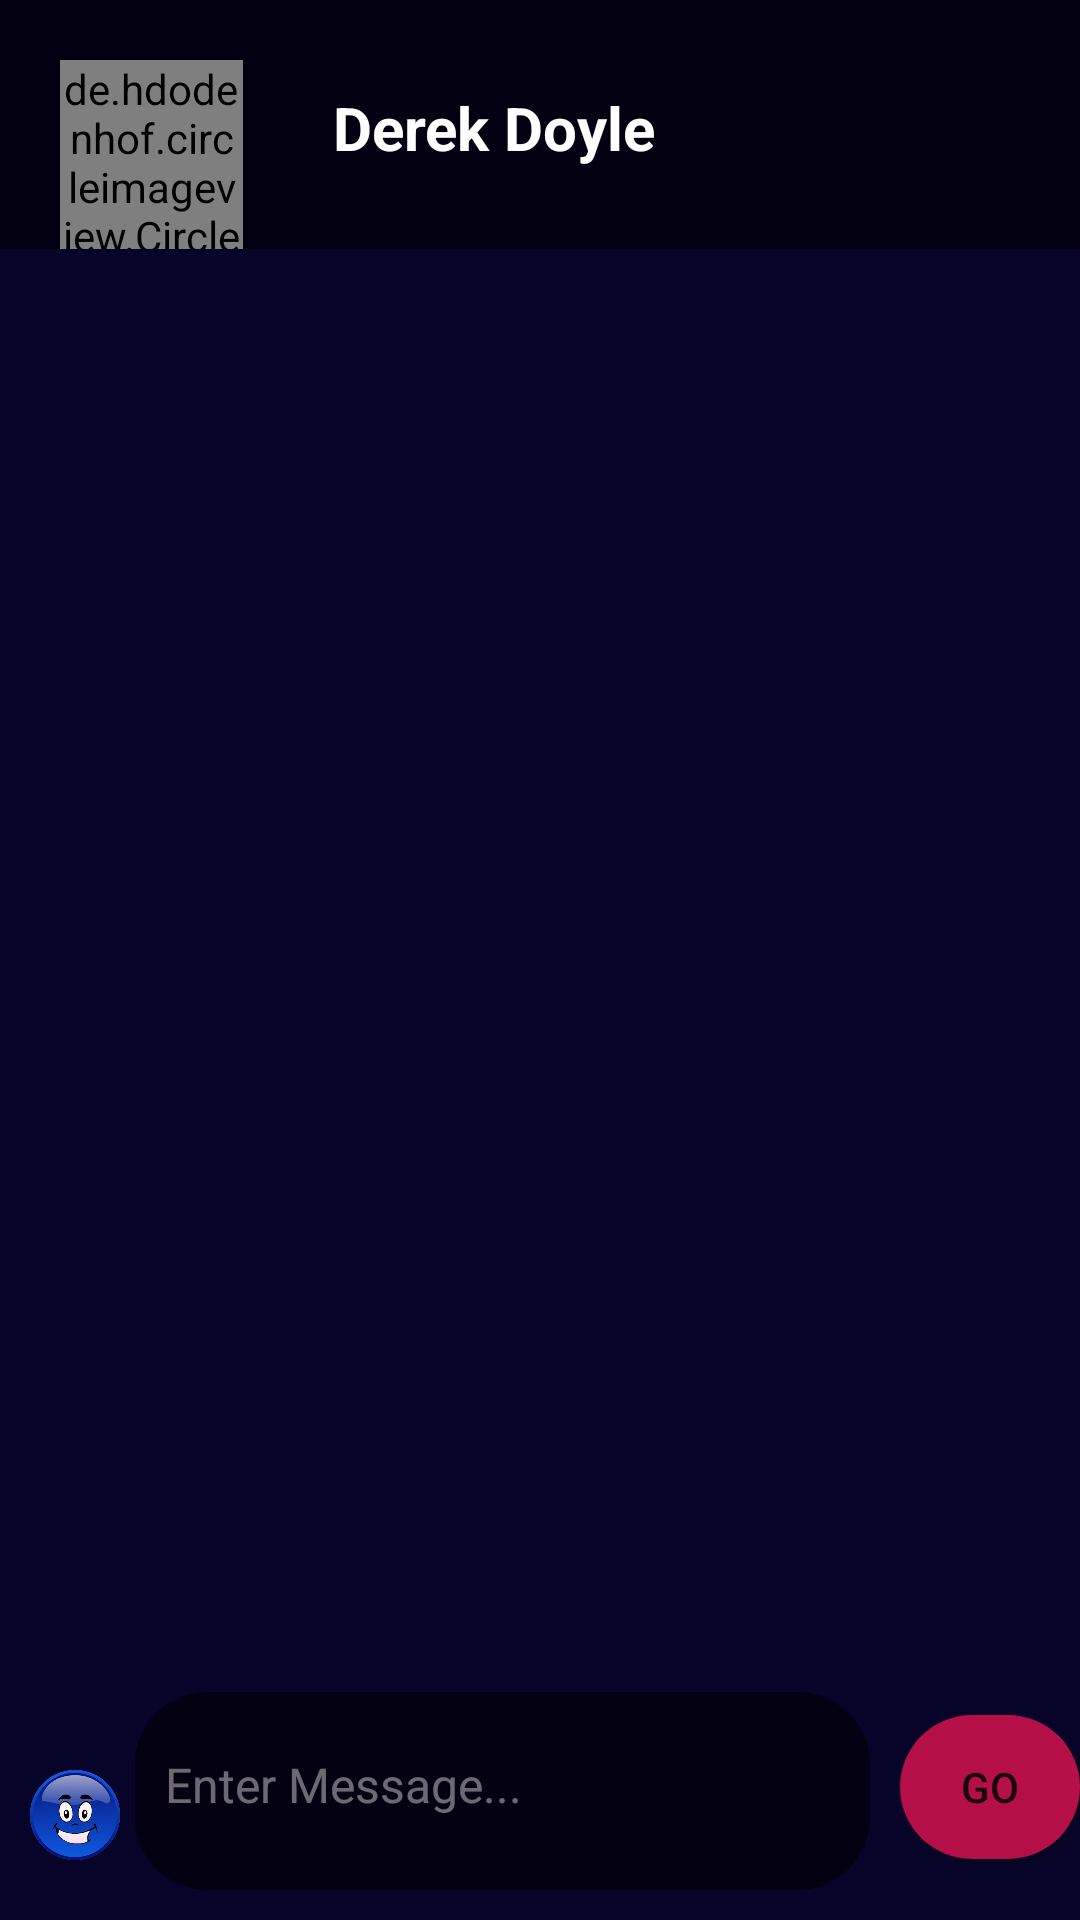

Locate icon controls on the screen. Image size 1080px x 1920px, boxes as (x1, y1, x2, y2).
emoji: (30, 1770, 120, 1860)
